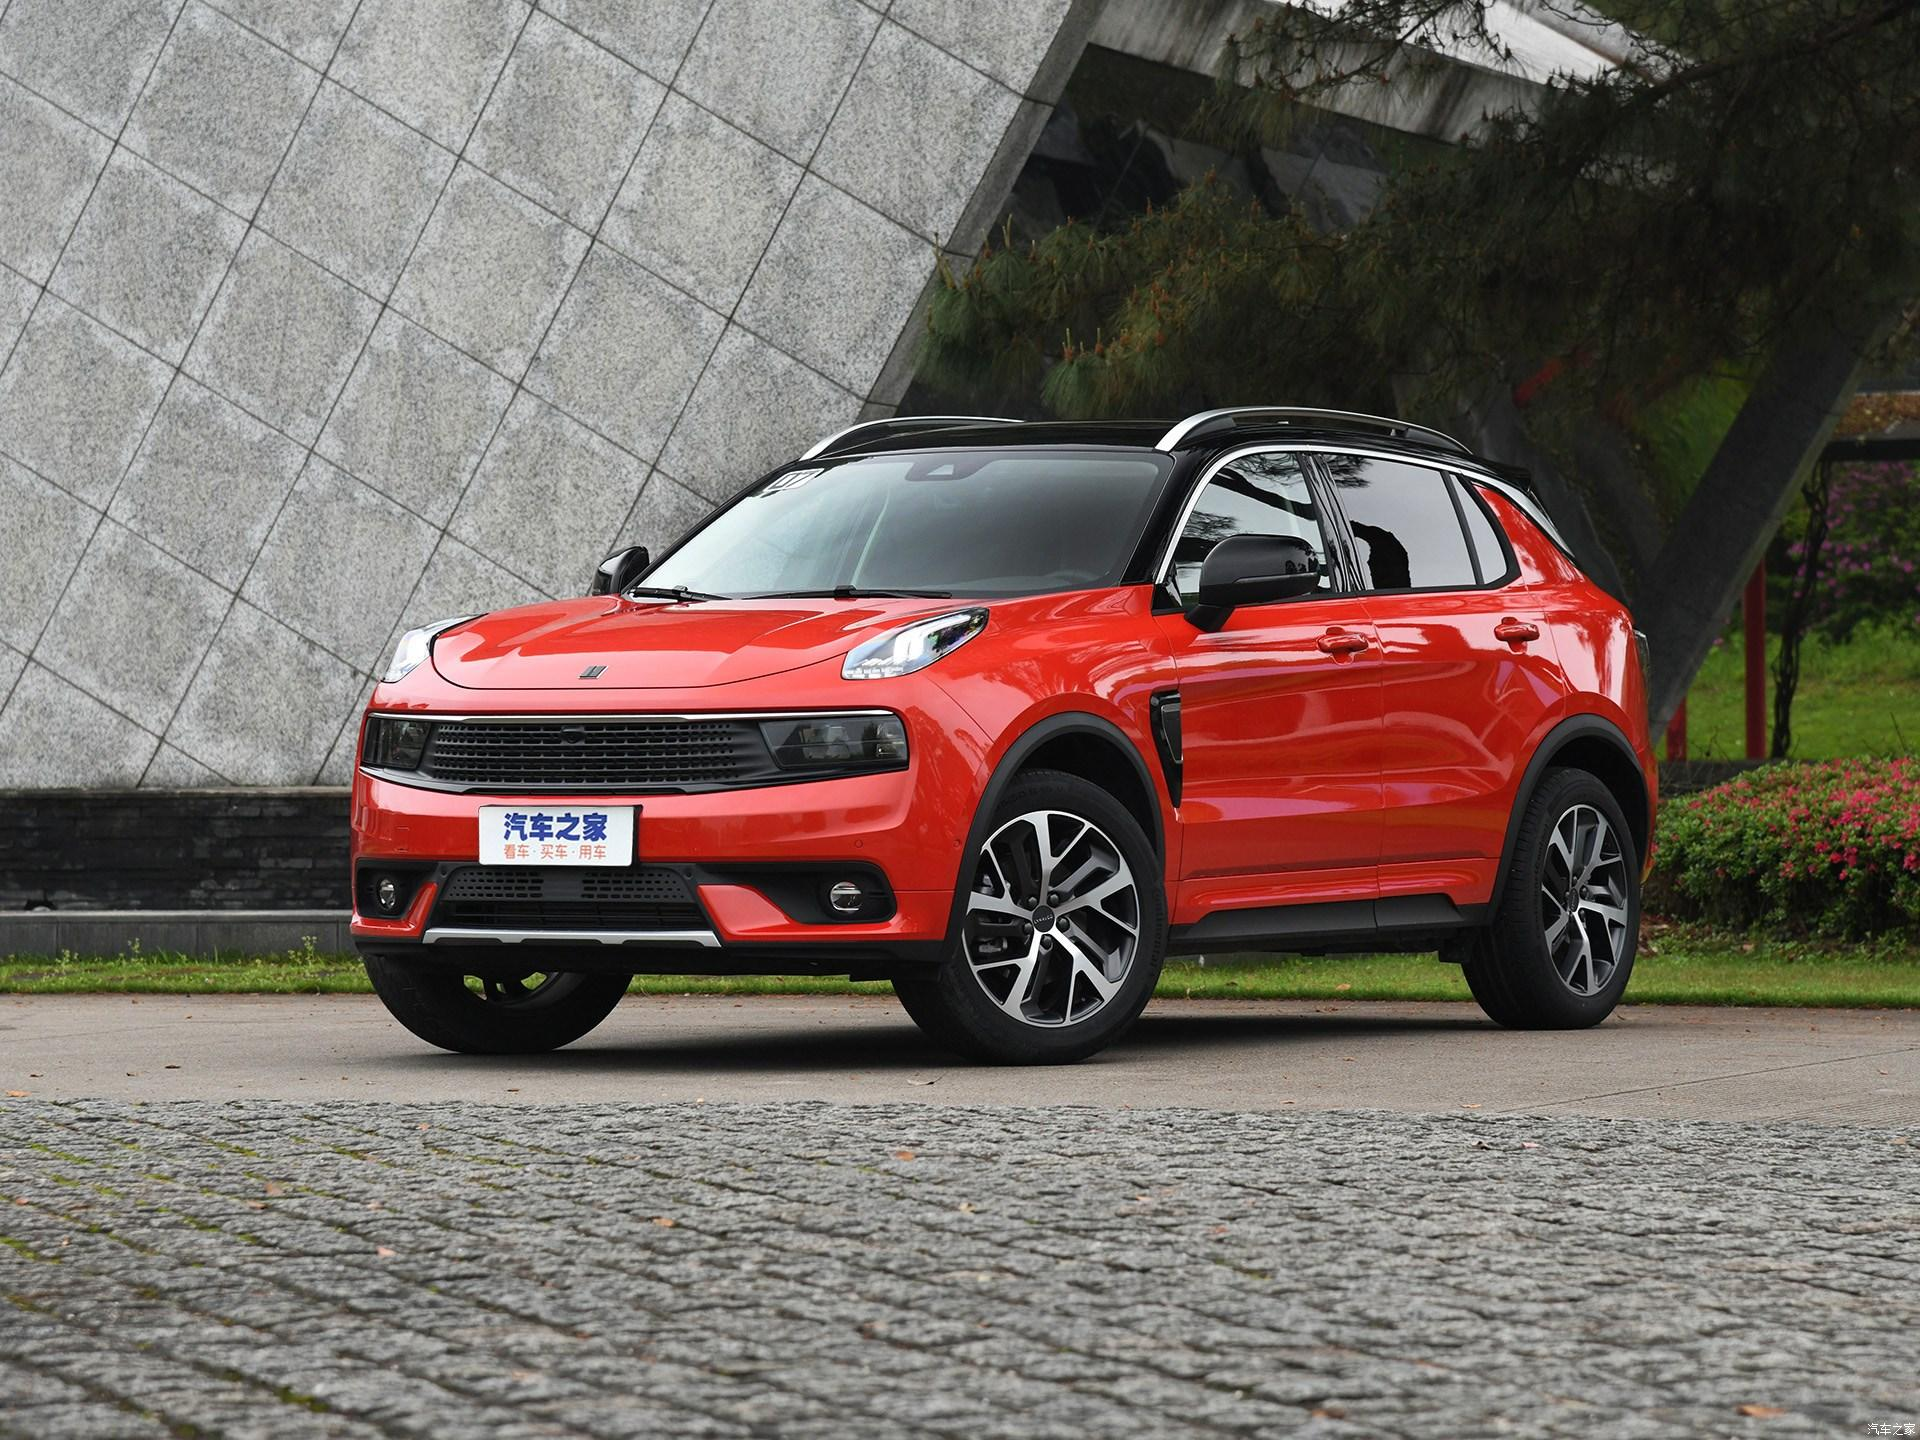car: (319, 380, 1722, 1109)
